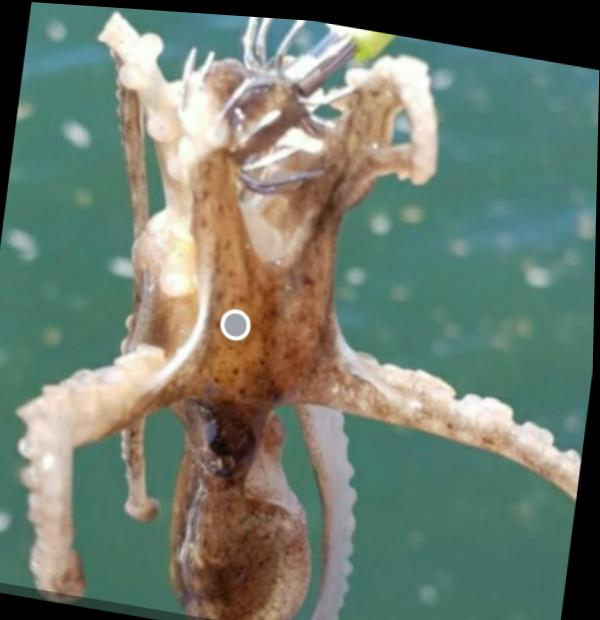Cephalopod: (17, 11, 582, 620)
